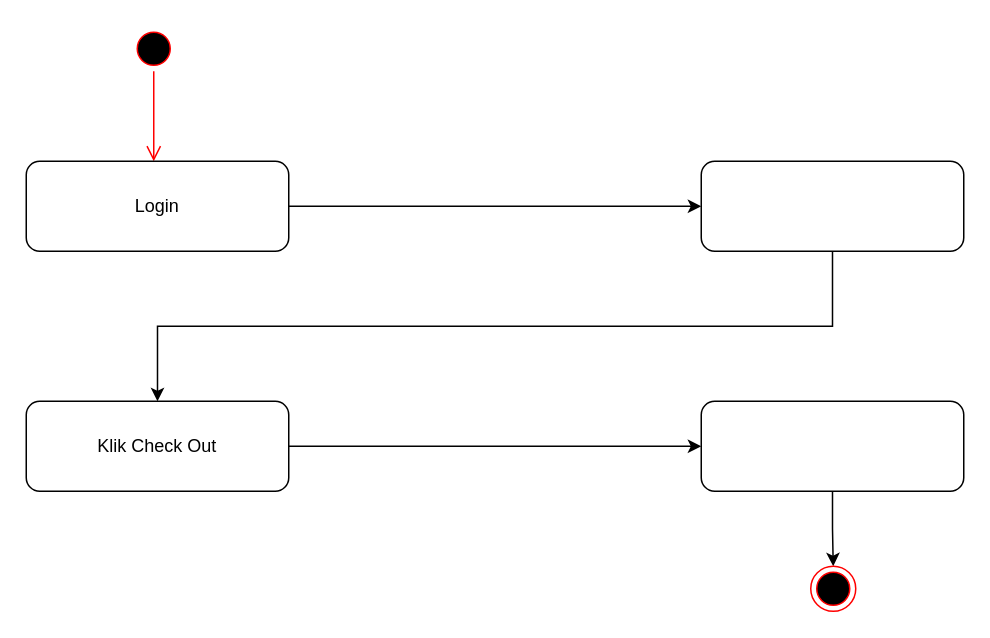
Image size: 990x638. Some labels were removed from this diagram. Here are the shapes that lost their labels. From the top down, the box of each, then its label:
(700, 160, 964, 251): Menampilkan Halaman Utama
(700, 400, 964, 491): Check Out Berhasil
